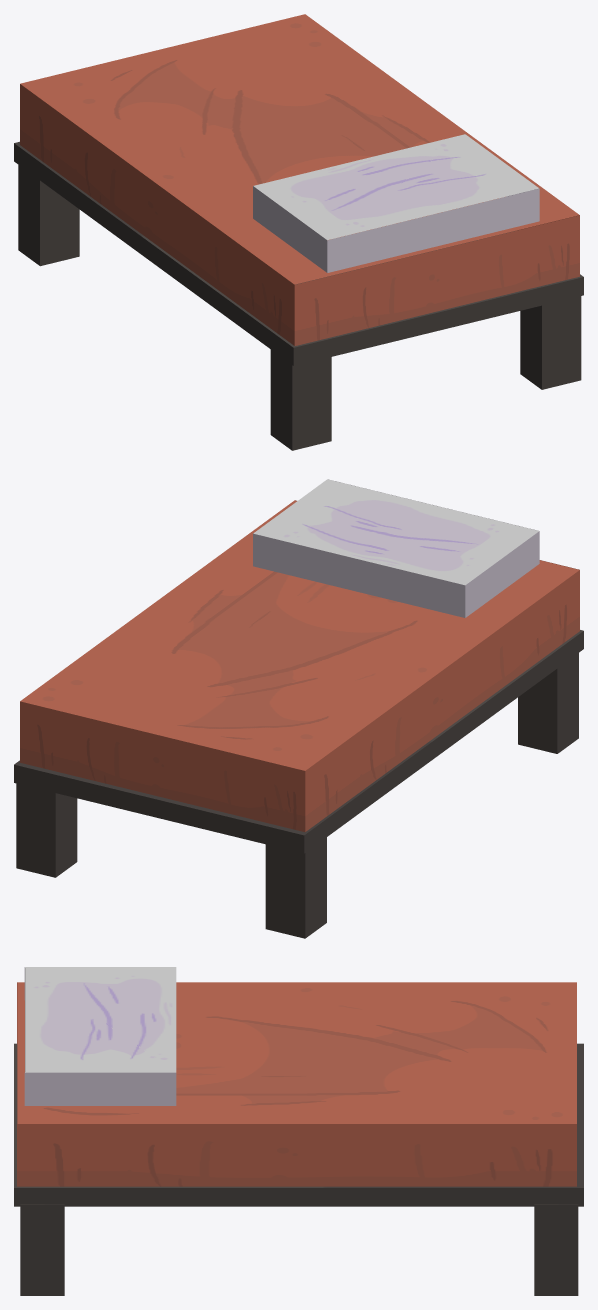
The model's file is LIT.fbx.
The picture shows the model from 3 angles, top to bottom: view 1: azimuth 30°, elevation 25°; view 2: azimuth 150°, elevation 25°; view 3: azimuth 270°, elevation 25°; orthographic projection.
Visible parts, largest first — view 1: Cube, Cube.001, Cube.002, Cube.006, Cube.005, Cube.003; view 2: Cube, Cube.001, Cube.002, Cube.003, Cube.004, Cube.006; view 3: Cube, Cube.001, Cube.002, Cube.005, Cube.004.
Part boxes in pixels (bbox=[...]): Cube: bbox=[20, 14, 579, 345]; Cube.001: bbox=[253, 134, 539, 272]; Cube.002: bbox=[14, 141, 583, 365]; Cube.006: bbox=[270, 349, 331, 450]; Cube.005: bbox=[520, 296, 581, 389]; Cube.003: bbox=[18, 165, 79, 266]; Cube: bbox=[20, 500, 579, 831]; Cube.001: bbox=[253, 479, 539, 617]; Cube.002: bbox=[14, 630, 583, 853]; Cube.003: bbox=[265, 837, 326, 938]; Cube.004: bbox=[16, 783, 77, 877]; Cube.006: bbox=[518, 653, 578, 753]; Cube: bbox=[17, 982, 576, 1186]; Cube.001: bbox=[24, 967, 176, 1105]; Cube.002: bbox=[14, 1043, 583, 1206]; Cube.005: bbox=[20, 1204, 64, 1295]; Cube.004: bbox=[534, 1204, 578, 1295].
Bounding box in the file's own units: 344 × 226 × 574.
